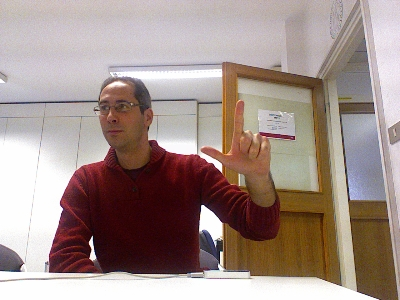枪: (199, 98, 271, 176)
